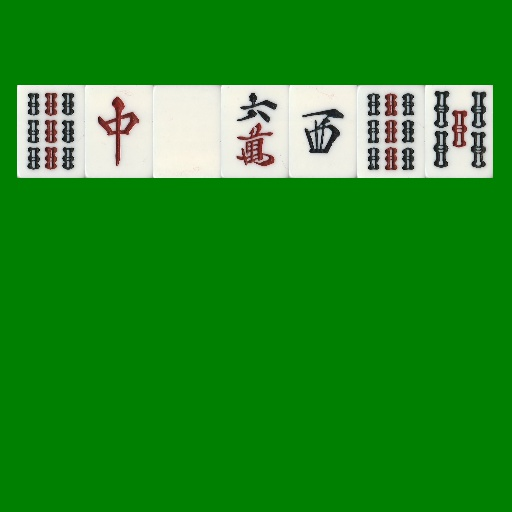5s: (425, 85, 493, 178)
6m: (221, 85, 289, 178)
9s: (17, 85, 85, 178), (357, 85, 425, 178)
tyun: (85, 85, 153, 178)
west: (289, 85, 357, 178)
white: (153, 85, 221, 178)
